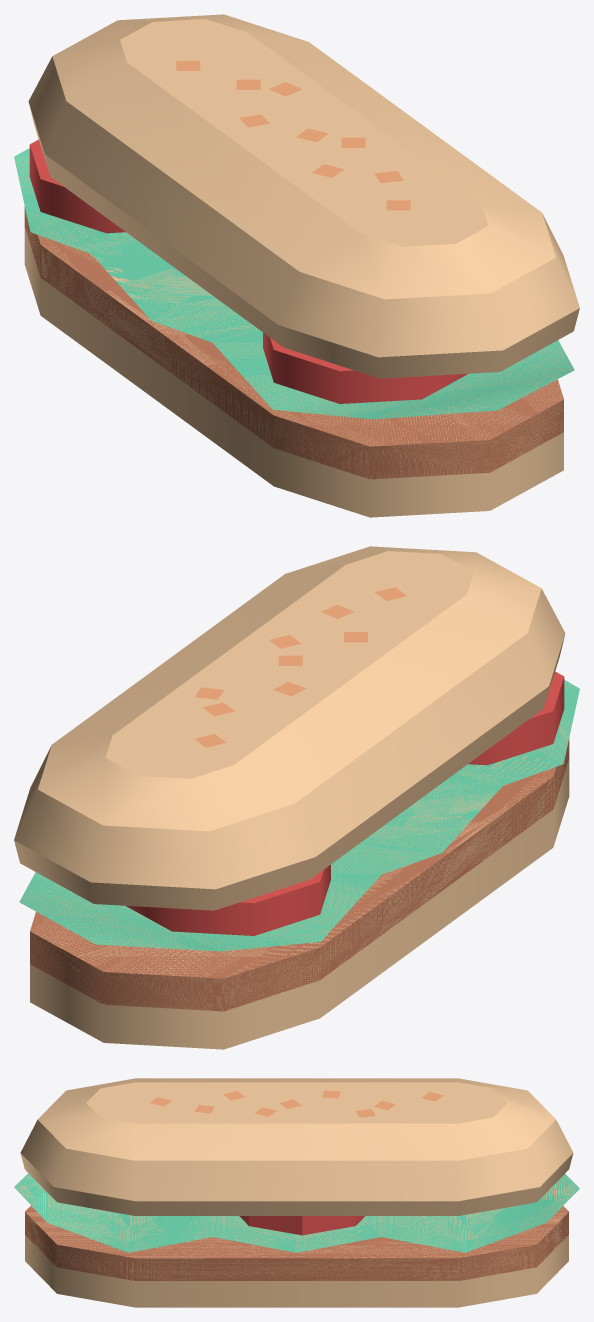
3 views of the same model, one above another, from view 1: azimuth 30°, elevation 25°; view 2: azimuth 150°, elevation 25°; view 3: azimuth 270°, elevation 25° (orthographic). The views are drawn at different scales.
Visible parts, largest first — view 1: sub, meat, lettuce, tomaties (×2); view 2: sub, meat, lettuce, tomaties (×2); view 3: sub, meat, lettuce, Group.
Part boxes in pixels (x1,y1,x2,y2): sub: (24,14,579,517); meat: (24,206,563,479); lettuce: (14,148,574,419); tomaties (×2): (29,139,468,403); sub: (14,546,569,1049); meat: (30,738,569,1011); lettuce: (19,680,579,951); tomaties (×2): (125,671,564,935); sub: (20,1078,573,1307); meat: (25,1205,568,1280); lettuce: (14,1173,579,1252); Group: (239,1216,364,1235).
Size of the model in its own units: 0.2827 by 0.2125 by 0.6756.
